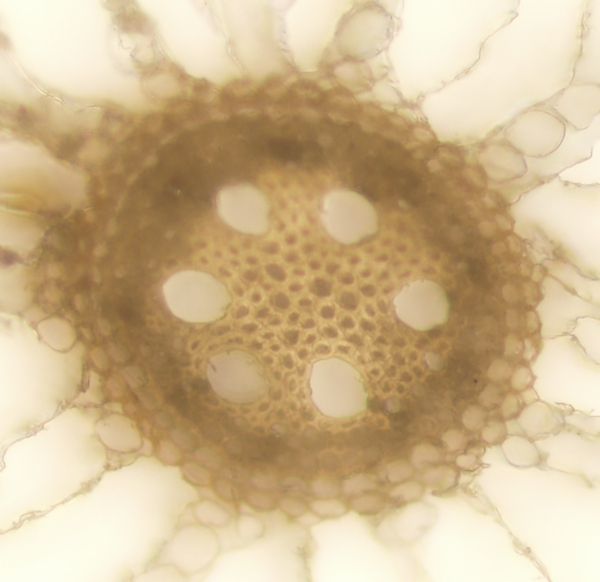lm: (309, 354, 368, 419), (162, 269, 230, 323), (206, 349, 270, 403), (321, 188, 379, 244), (215, 180, 272, 235), (393, 279, 450, 331)
